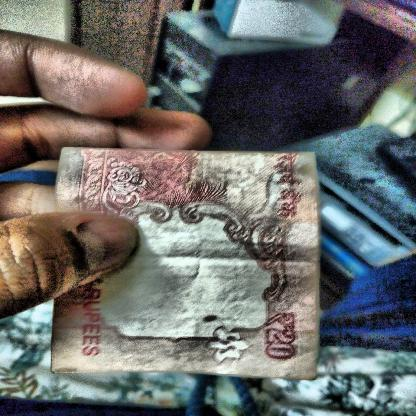Rs20: (261, 309, 301, 364)
